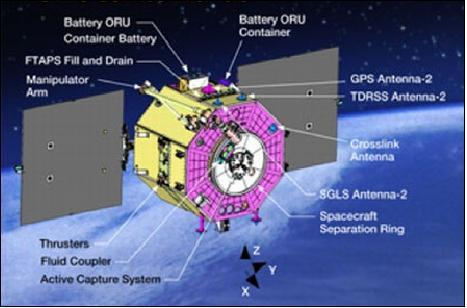antenna: (195, 211, 208, 236), (250, 206, 262, 227)
body: (132, 82, 288, 223)
solar: (20, 87, 125, 230), (236, 47, 341, 180)
